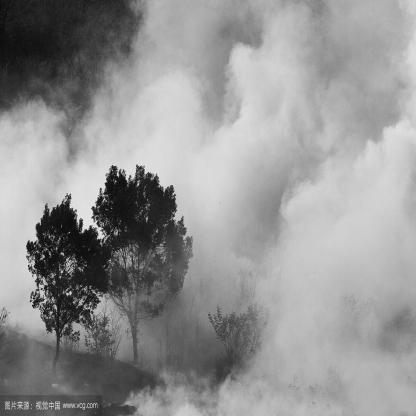smoke: (120, 7, 415, 414), (0, 92, 61, 339)
